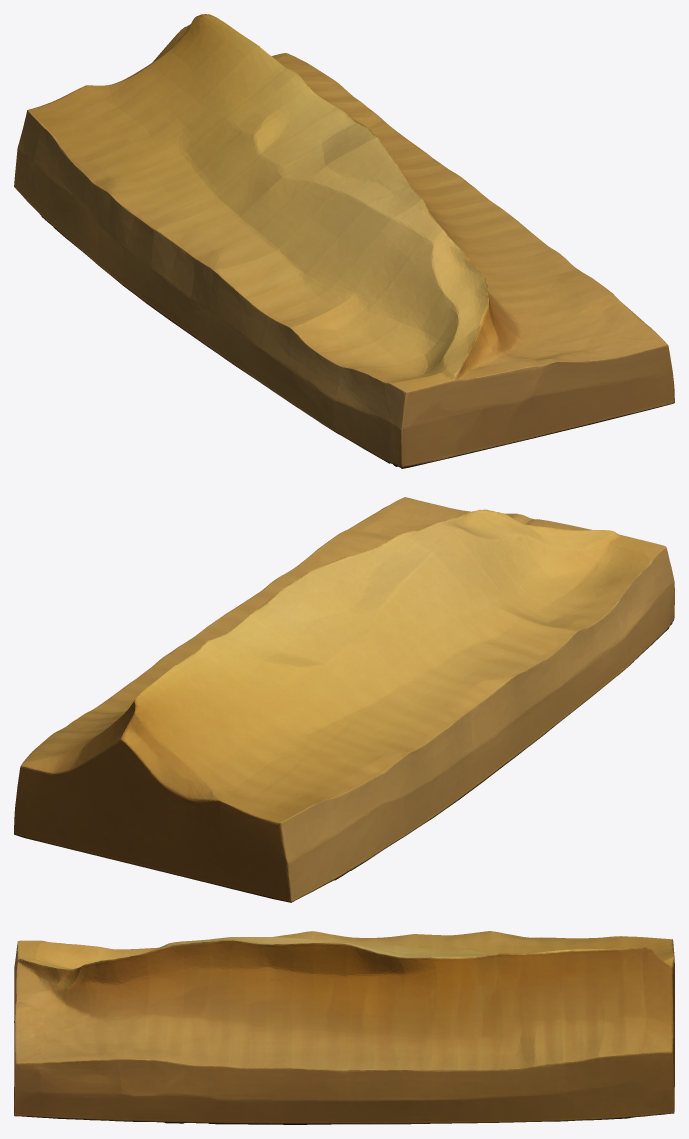
3 renders of one model, top to bottom at view 1: azimuth 30°, elevation 25°; view 2: azimuth 150°, elevation 25°; view 3: azimuth 270°, elevation 25°, orthographic. The views are drawn at different scales.
Visible parts, largest first — view 1: world; view 2: world; view 3: world.
Boxes of the visible parts, box(x1,y1,x2,y2) form: world: box(14, 14, 674, 468); world: box(14, 497, 674, 902); world: box(14, 931, 674, 1124).
Bounding box in the file's own units: 13.98 × 6.54 × 30.
1 material, 1 textured.
